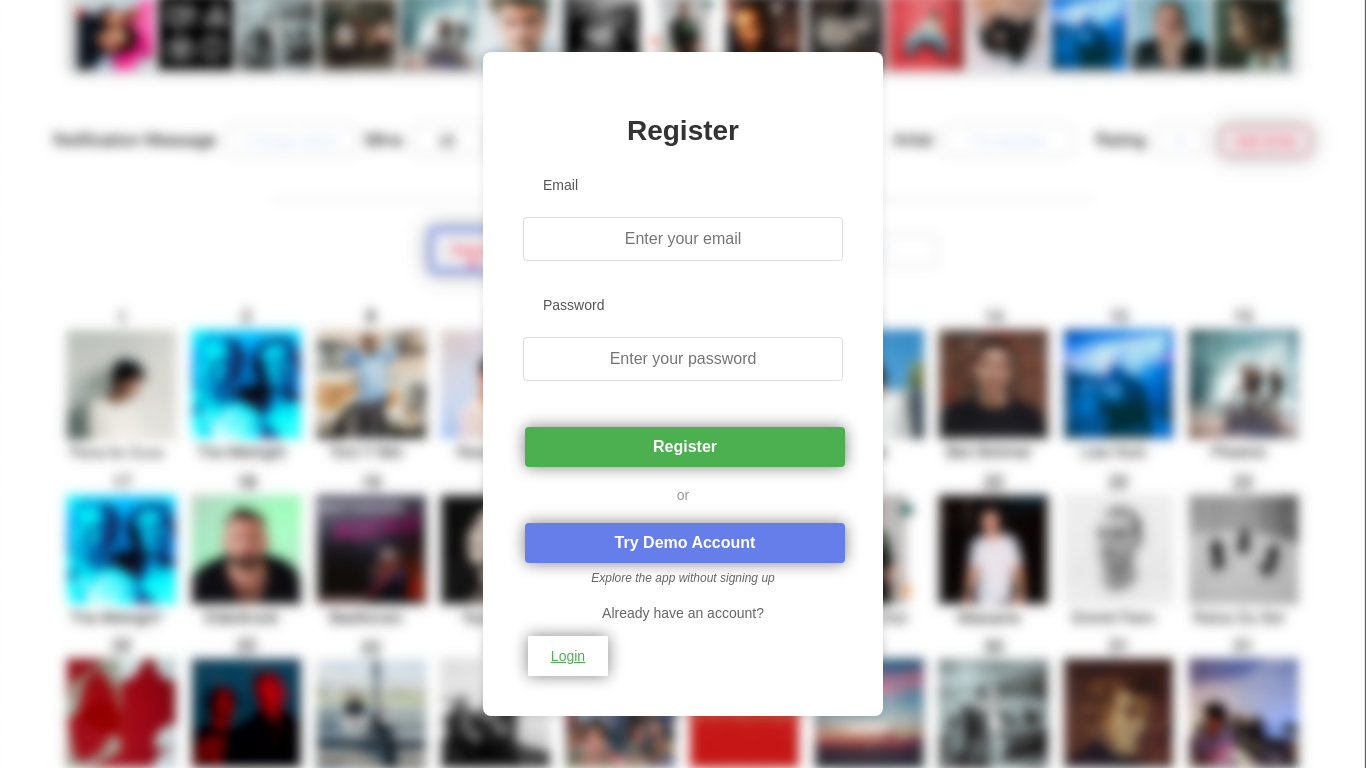
Auth › errors when the server returns no token
Type "a@b.com" into the field with placeholder "Enter your email" at coordinates (683, 239), box [523,217,843,261]
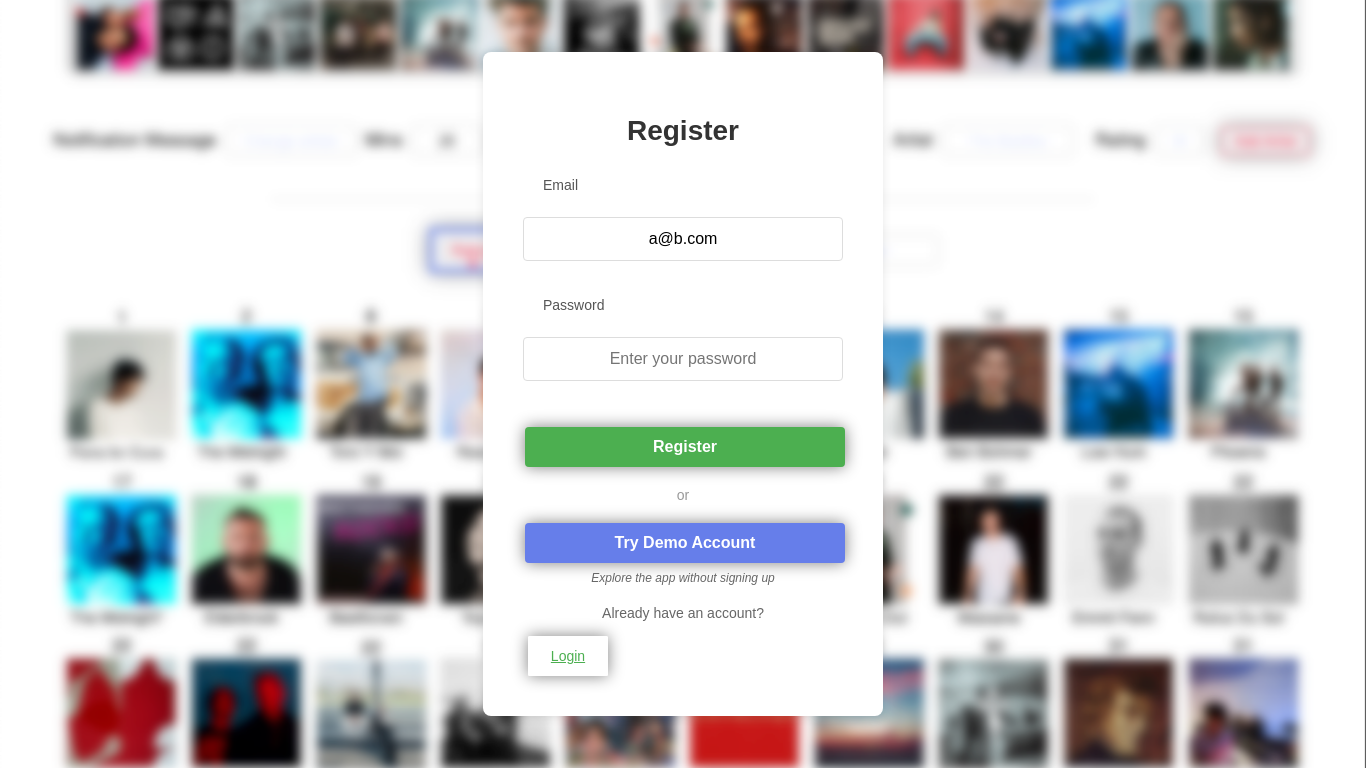
Type "secret1" into the password field with placeholder "Enter your password" at coordinates (683, 359), box [523,337,843,381]
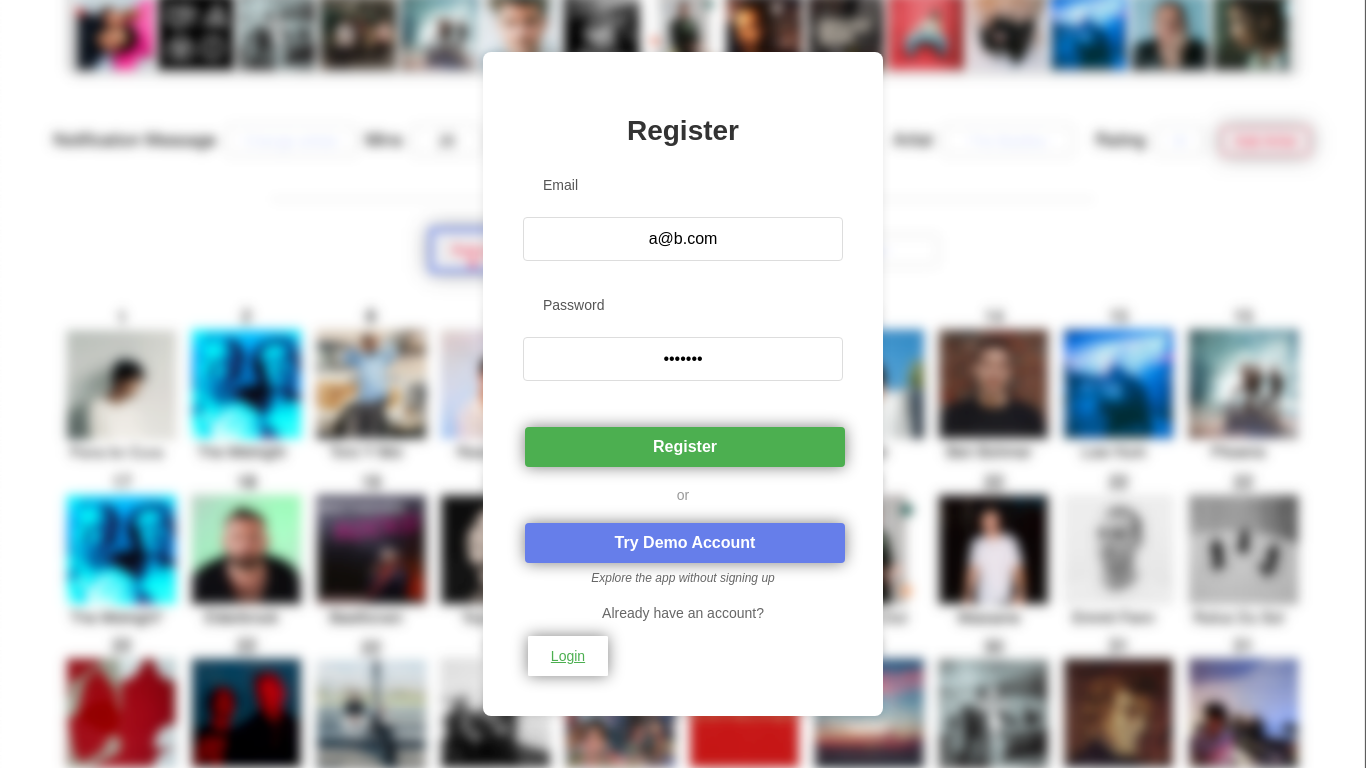
Submit the form with placeholder "Enter your email", box [523,177,843,467]
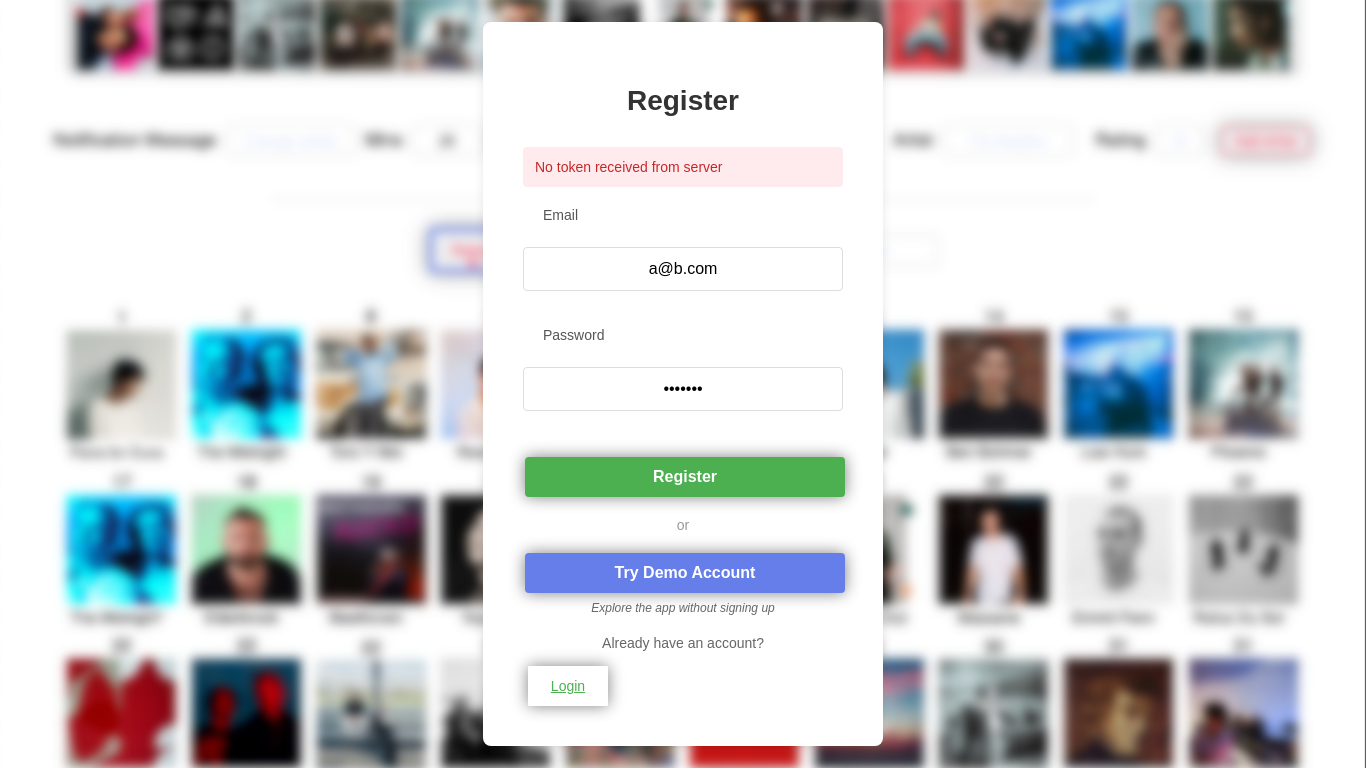
Now the text "No token received from server" is shown, box [523,147,843,187]
